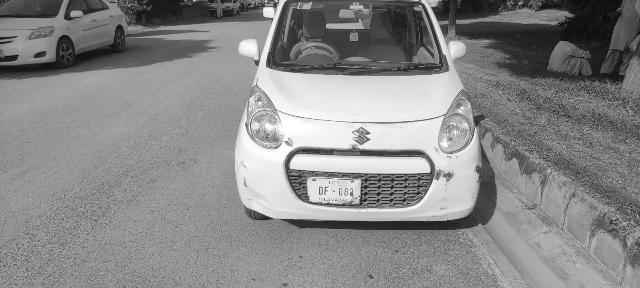Number: (307, 179, 362, 206), (318, 186, 356, 196)
